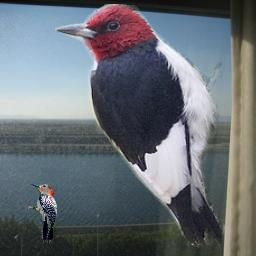Woodpecker: (55, 4, 222, 248), (26, 184, 57, 244)
